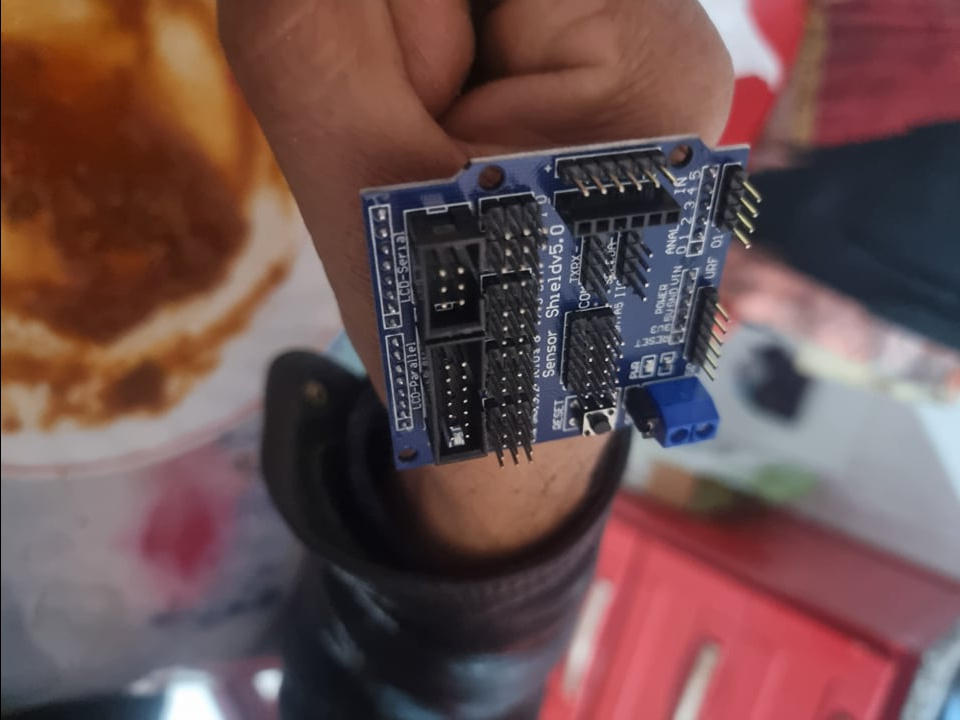5V EXPANSION: (352, 130, 759, 474)
